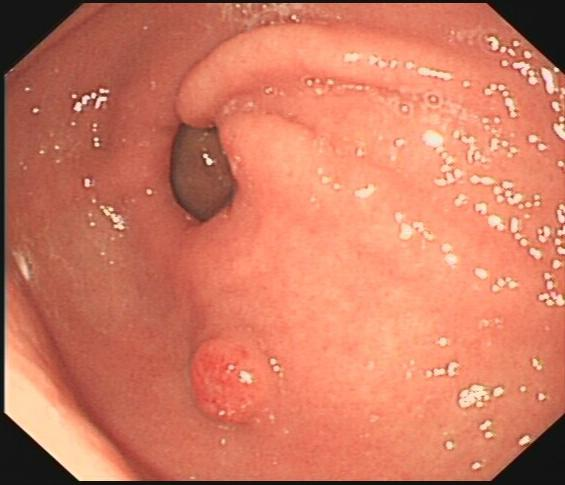Polyp: (157, 310, 307, 447)
